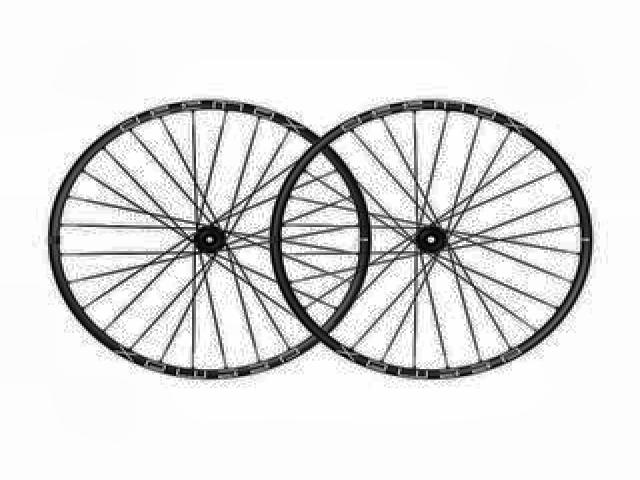wheel: (265, 95, 595, 388), (48, 96, 375, 385)
